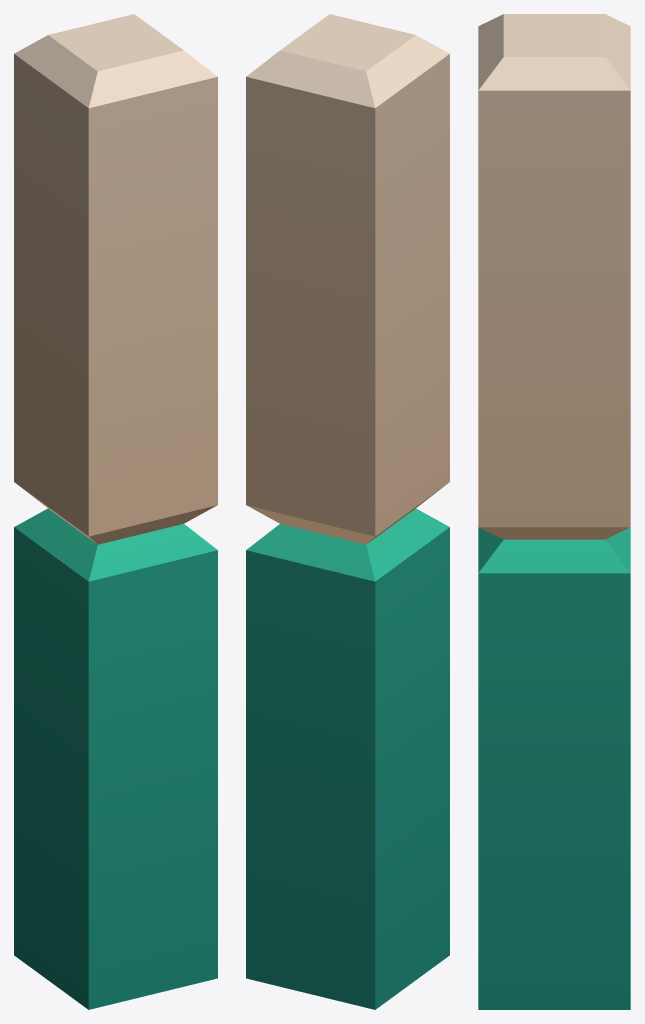
File: Pillar.glb
The picture shows the model from 3 angles, left to right: view 1: azimuth 30°, elevation 25°; view 2: azimuth 150°, elevation 25°; view 3: azimuth 270°, elevation 25°; orthographic projection.
Visible parts, largest first — view 1: pillar_A; view 2: pillar_A; view 3: pillar_A.
Boxes of the visible parts, x1,y1,x2,y2 form: pillar_A: (14,14,217,1009); pillar_A: (246,14,449,1009); pillar_A: (478,14,630,1009).
Bounding box in the file's own units: 0.6 × 4.1 × 0.6.
Materials: 1 (1 with a texture image).
